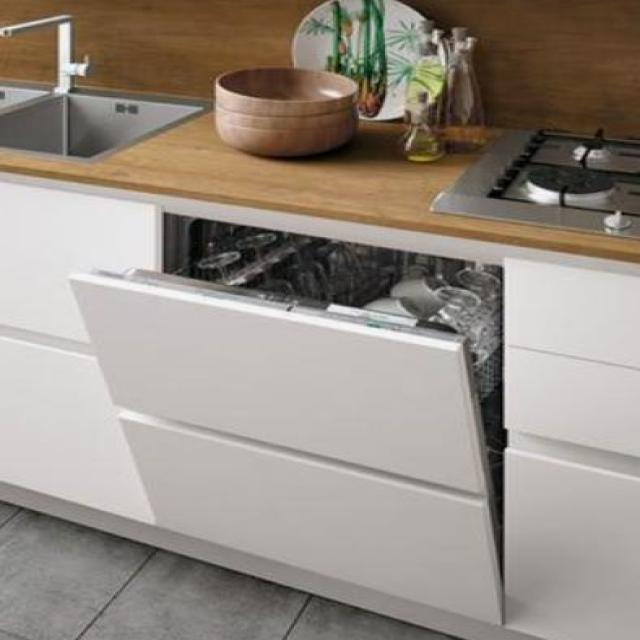dishwasher: (59, 200, 518, 630)
